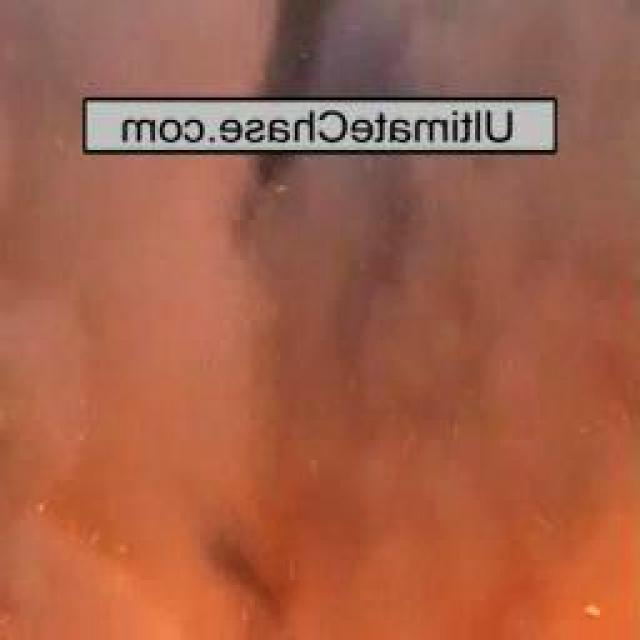Fire: (356, 361, 634, 640), (0, 413, 170, 640)
